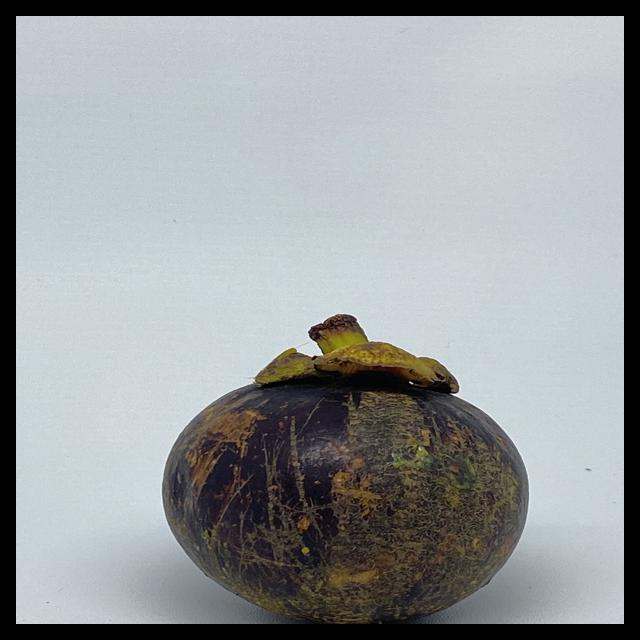mangosteen: (142, 308, 549, 624)
